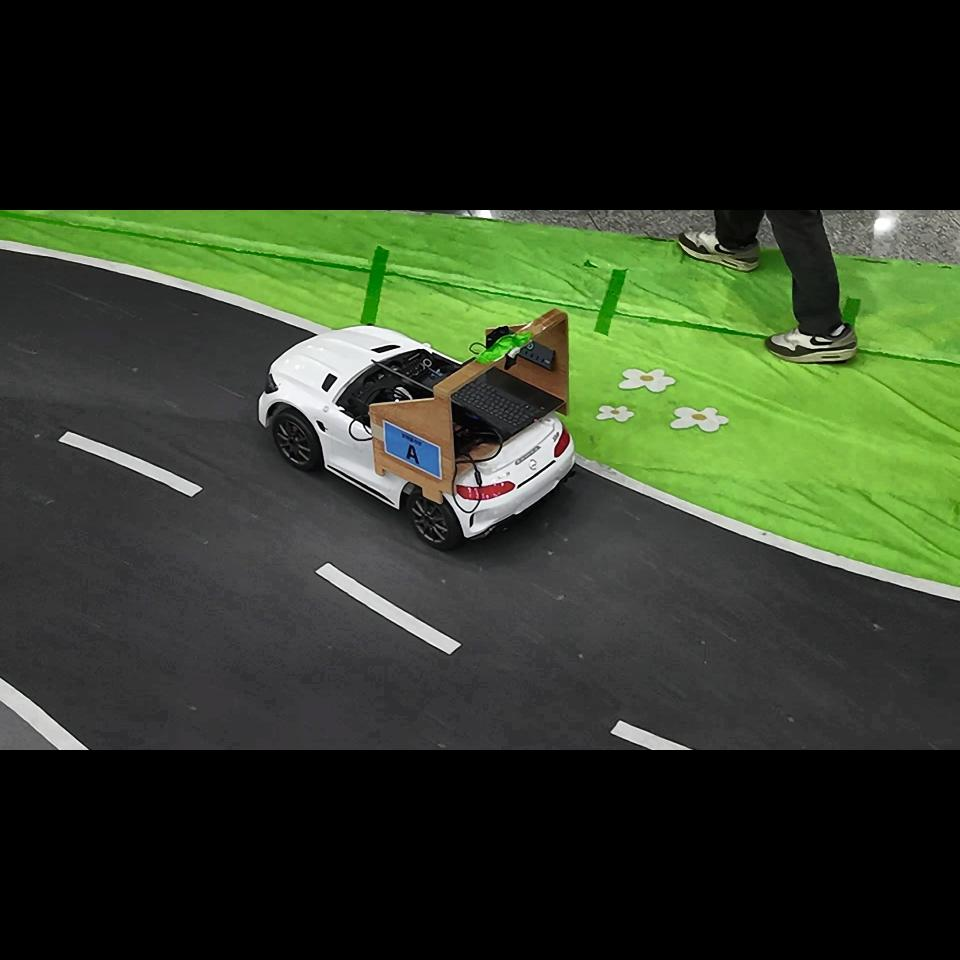broken_line: (315, 563, 462, 655), (58, 431, 203, 498), (610, 720, 693, 750)
